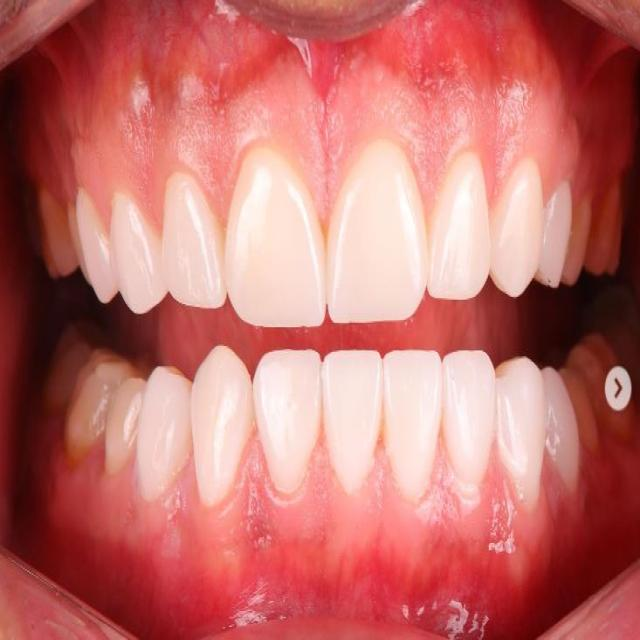1st Molar: (66, 346, 133, 454), (32, 191, 75, 281), (587, 181, 625, 278), (562, 369, 600, 450)
1st Premolar: (497, 358, 545, 512), (70, 187, 116, 304), (538, 182, 575, 291), (103, 379, 144, 471)
2nd Molar: (573, 333, 637, 440), (43, 323, 99, 409)
2nd Premolar: (542, 369, 583, 497), (566, 197, 594, 291)
Canine: (443, 351, 497, 500), (490, 156, 545, 300), (136, 368, 194, 502), (110, 191, 167, 316)
Central Incisor: (224, 145, 326, 327), (327, 140, 426, 324), (253, 349, 323, 497), (322, 350, 382, 497)
Lateral Incisor: (190, 346, 252, 511), (382, 349, 443, 508), (427, 152, 492, 301), (161, 168, 224, 311)
